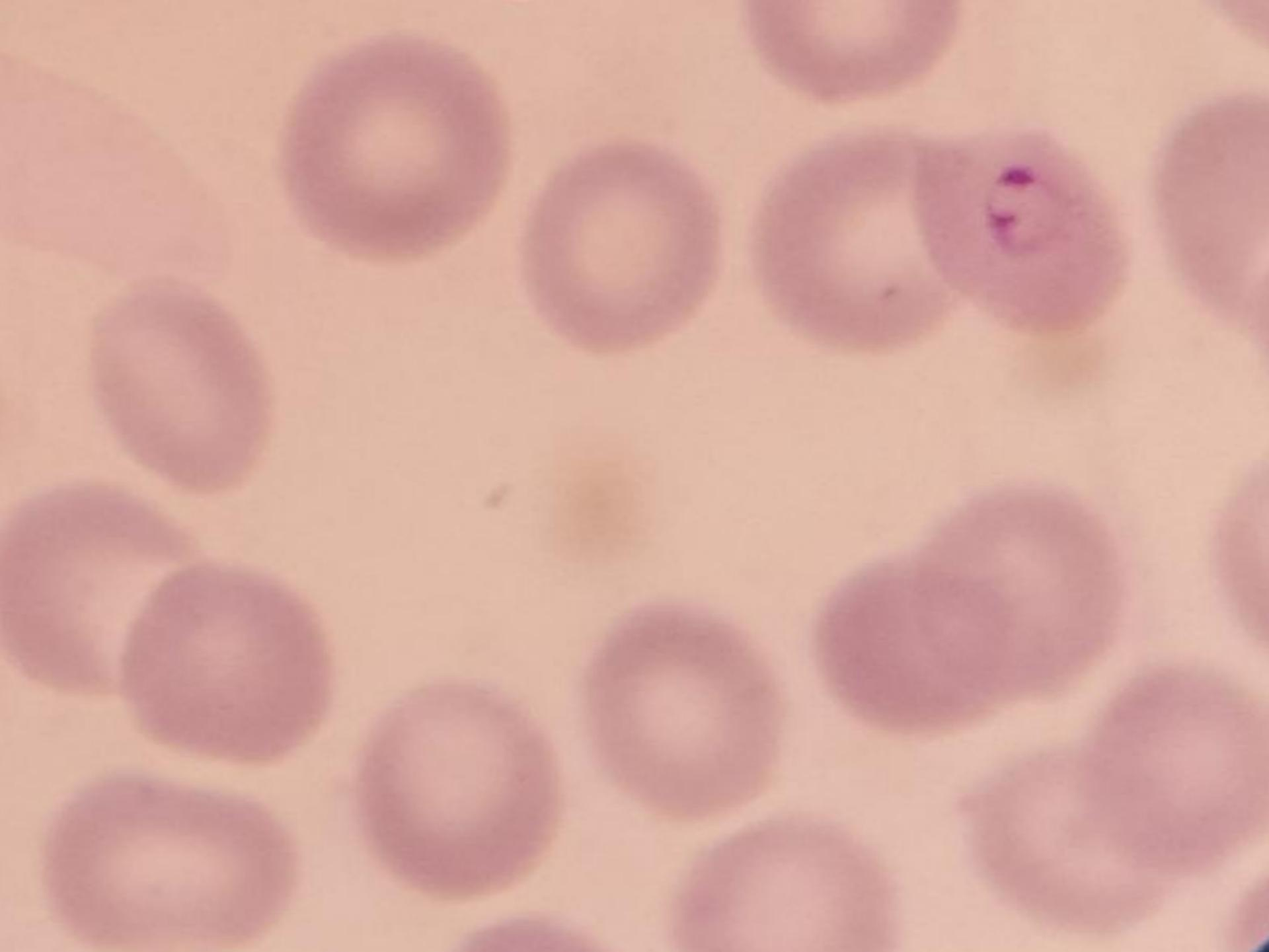Infected: (919, 124, 1129, 337)
Uninfected: (283, 35, 510, 266), (749, 123, 954, 344), (915, 481, 1125, 695), (40, 778, 292, 952), (122, 562, 333, 764), (0, 491, 205, 697), (965, 750, 1192, 933), (592, 602, 779, 820), (529, 144, 724, 351), (362, 687, 555, 895), (88, 281, 270, 487), (1094, 663, 1269, 866), (811, 564, 1015, 736), (674, 826, 891, 952)
